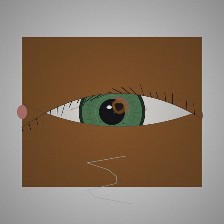foreign_body_visible: (103, 94, 131, 116)
